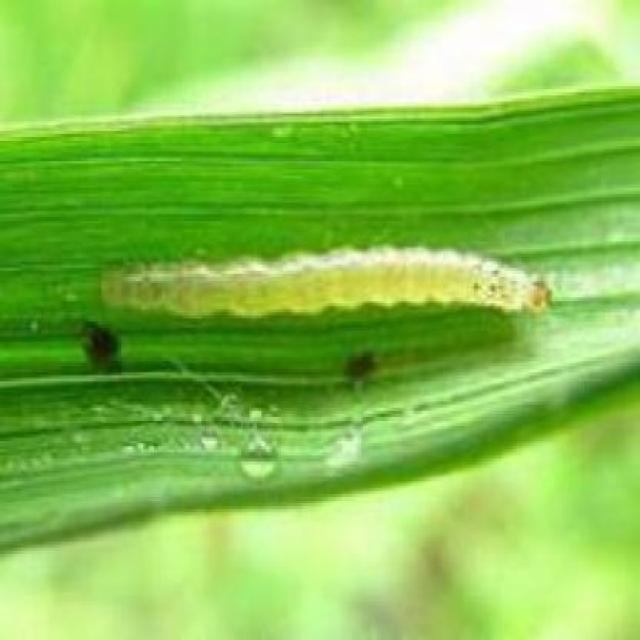leaf-folder: (90, 236, 562, 342)
